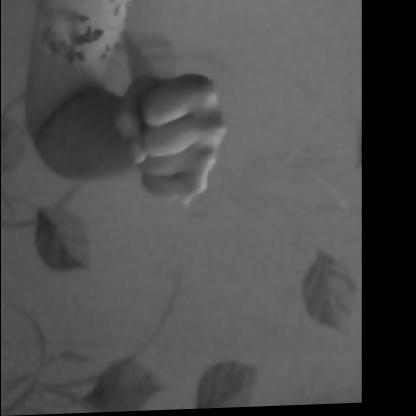fist: (11, 36, 239, 222)
